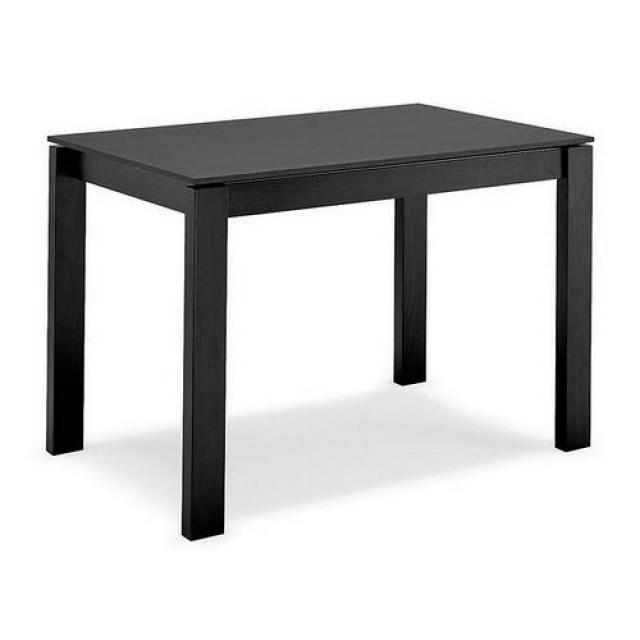table: (48, 102, 595, 542)
